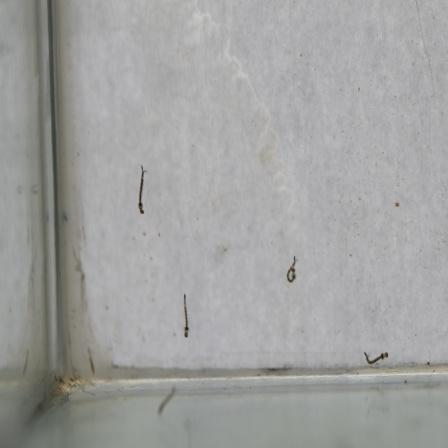Jentik-Nyamuk: (175, 288, 196, 343), (132, 162, 152, 218), (281, 250, 303, 287), (358, 346, 393, 368)
